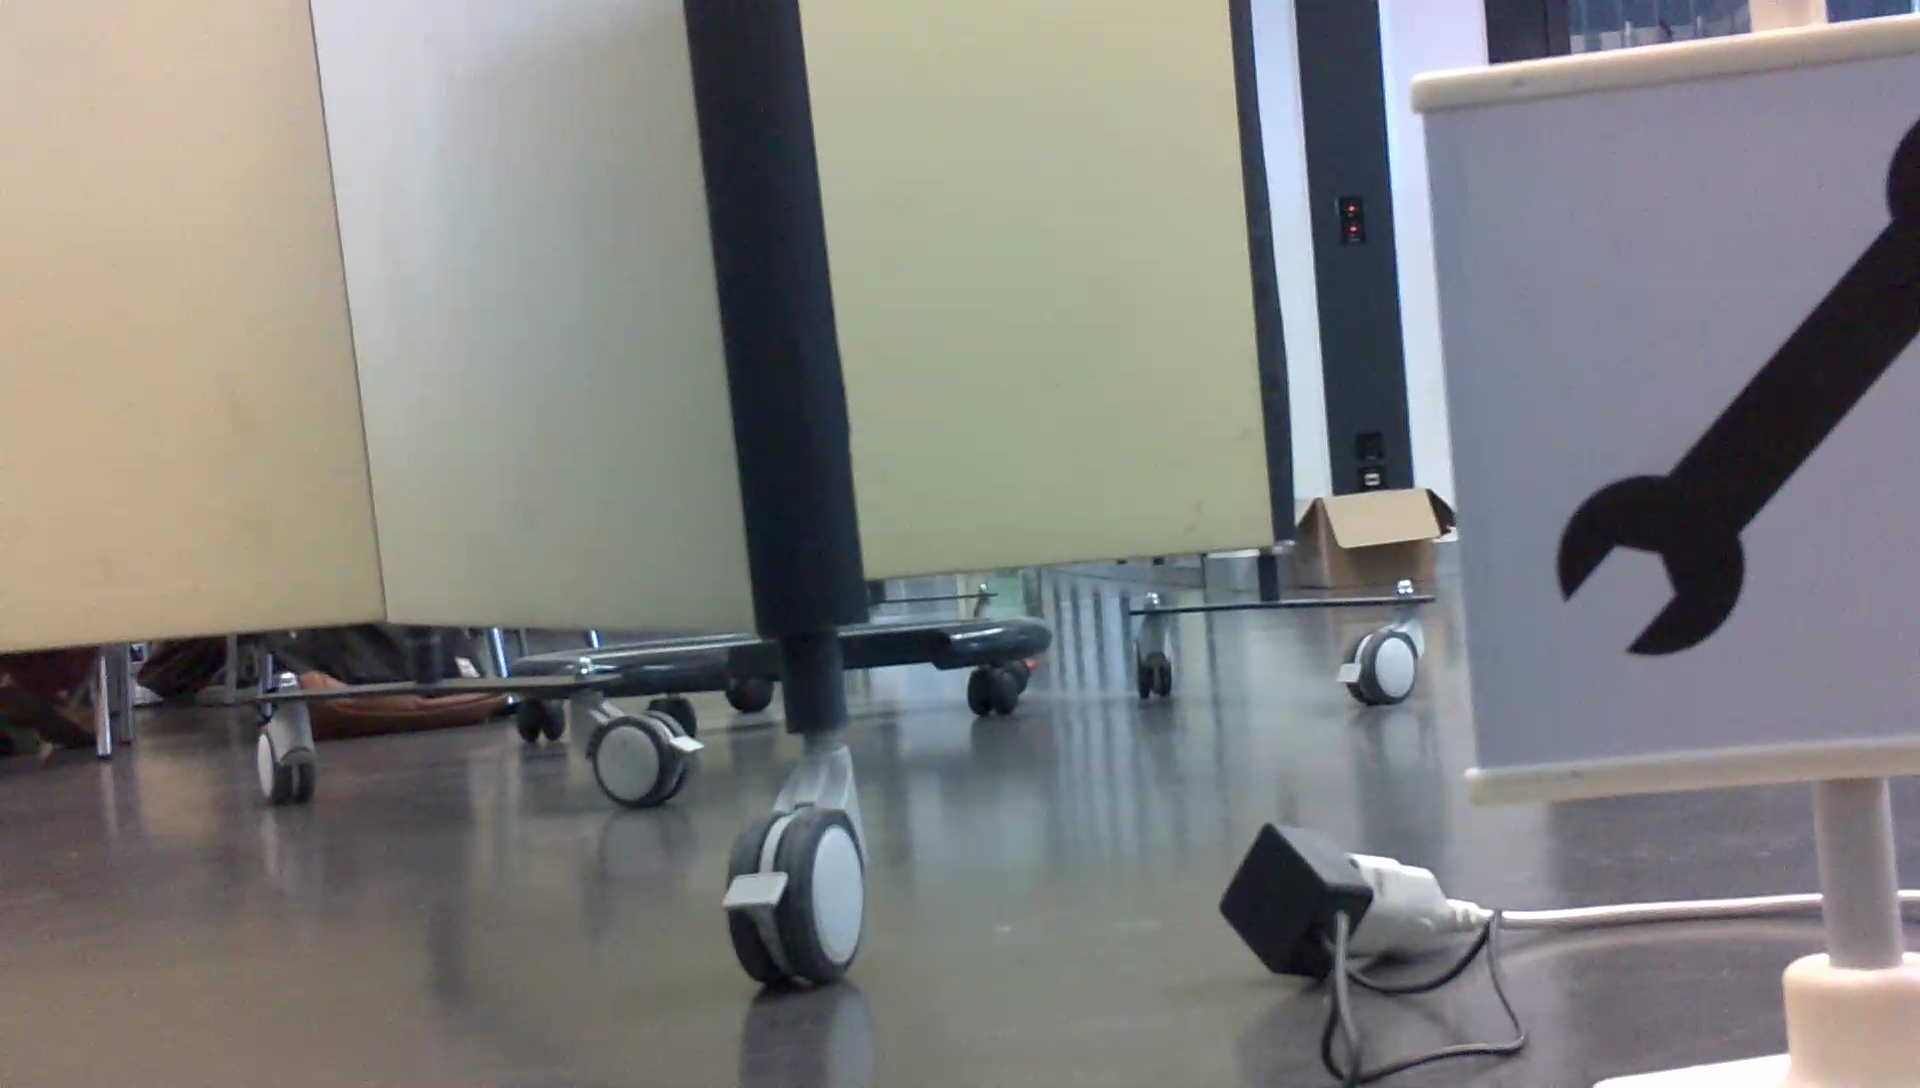wrench: (1545, 113, 1920, 670)
